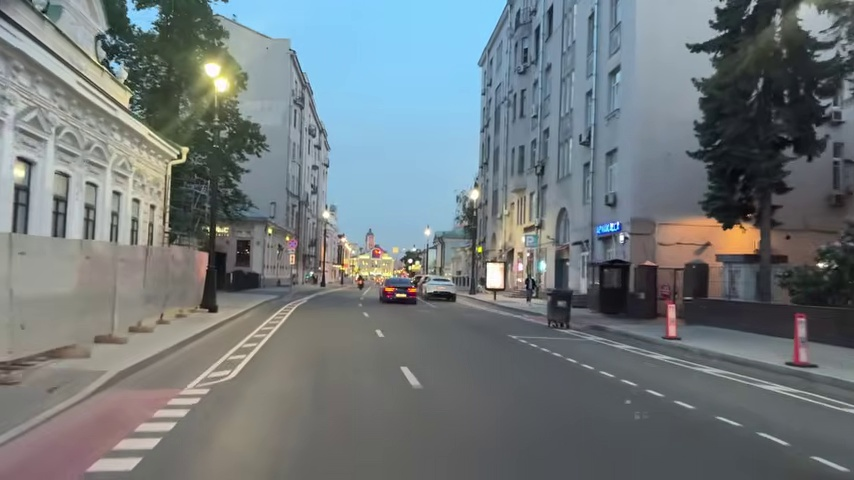acesa: (200, 59, 234, 97), (401, 367, 422, 389)
apagada: (605, 146, 620, 163)
